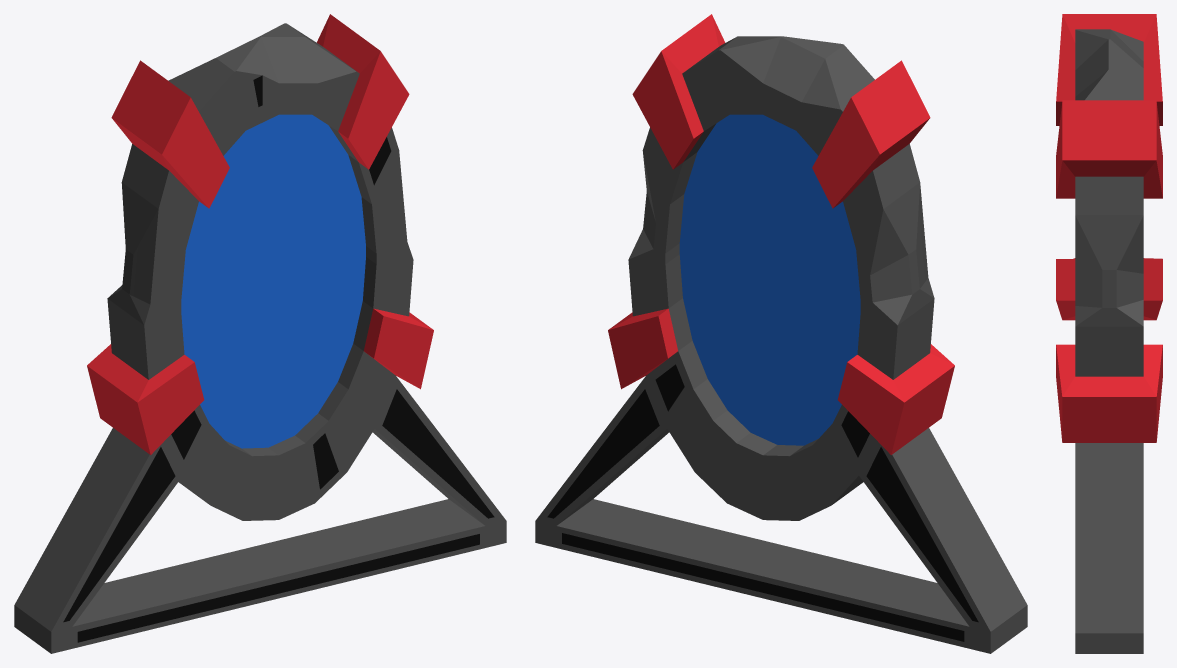
Rendered from Portal_02.fbx.
The picture shows the model from 3 angles, left to right: view 1: azimuth 30°, elevation 25°; view 2: azimuth 150°, elevation 25°; view 3: azimuth 270°, elevation 25°; orthographic projection. The views are drawn at different scales.
Visible parts, largest first — view 1: Plane, Plane.005, Plane.002, Plane.001, Plane.003, Plane.004; view 2: Plane, Plane.005, Plane.002, Plane.001, Plane.003, Plane.004; view 3: Plane, Plane.003, Plane.004, Plane.002, Plane.001.
Part boxes in pixels (bbox=[...]): Plane: bbox=[14, 23, 506, 653]; Plane.005: bbox=[181, 114, 365, 448]; Plane.002: bbox=[111, 60, 229, 208]; Plane.001: bbox=[87, 344, 204, 454]; Plane.003: bbox=[317, 14, 409, 169]; Plane.004: bbox=[364, 308, 433, 389]; Plane: bbox=[535, 36, 1027, 653]; Plane.005: bbox=[679, 114, 860, 445]; Plane.002: bbox=[812, 60, 930, 208]; Plane.001: bbox=[837, 344, 954, 454]; Plane.003: bbox=[632, 14, 725, 169]; Plane.004: bbox=[608, 308, 677, 389]; Plane: bbox=[1075, 29, 1143, 653]; Plane.003: bbox=[1056, 100, 1162, 198]; Plane.004: bbox=[1056, 344, 1162, 442]; Plane.002: bbox=[1056, 14, 1162, 125]; Plane.001: bbox=[1056, 258, 1162, 320].
Bounding box in the file's own units: 699 × 805 × 152.
